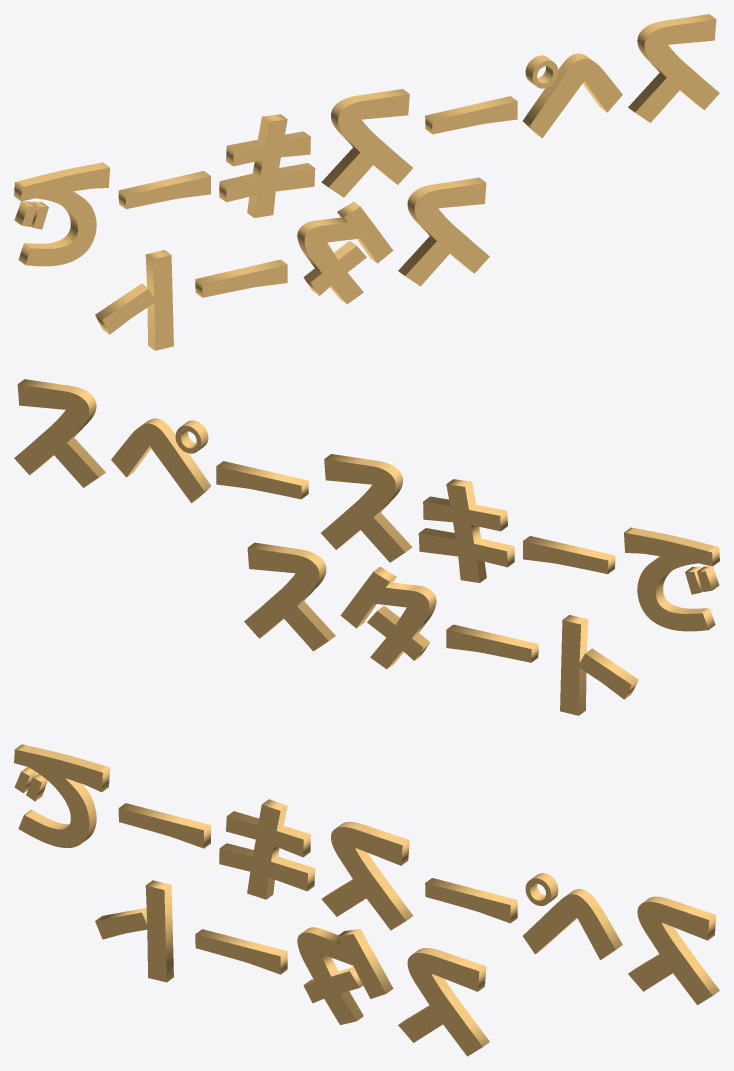
File: startText2.obj
The picture shows the model from 3 angles, top to bottom: view 1: azimuth 30°, elevation 25°; view 2: azimuth 150°, elevation 25°; view 3: azimuth 330°, elevation 25°; orthographic projection.
Visible parts, largest first — view 1: テキスト; view 2: テキスト; view 3: テキスト.
Part boxes in pixels (left/top/right/bottom): テキスト: left=14, top=14, right=719, bottom=350; テキスト: left=14, top=379, right=719, bottom=715; テキスト: left=14, top=744, right=719, bottom=1056.
Bounding box in the file's own units: 34.07 × 9.42 × 0.6.
Materials: 1 (1 with a texture image).
